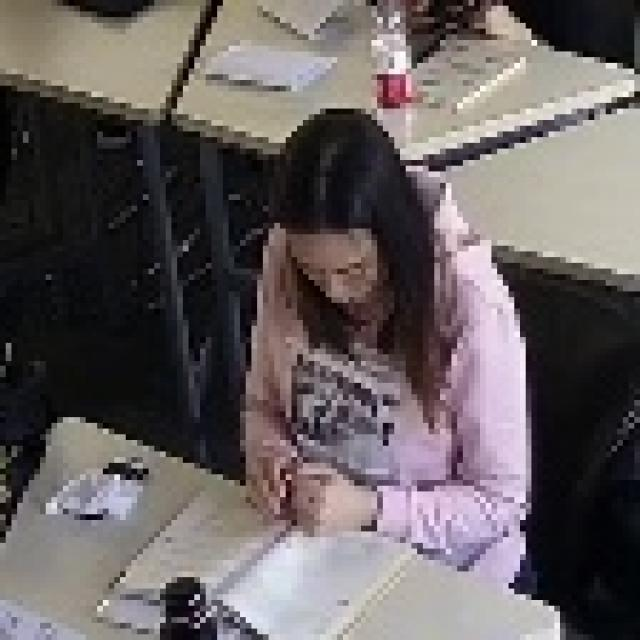write: (242, 105, 556, 592)
